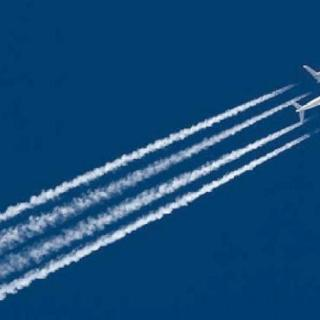Contrails: (0, 9, 320, 308)
